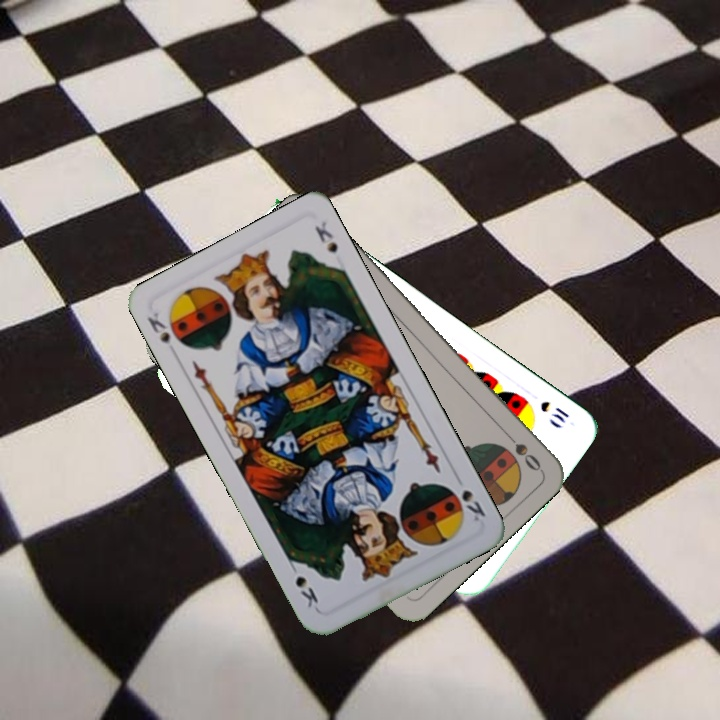S10: (536, 397, 571, 426)
SK: (143, 308, 188, 359), (457, 485, 488, 524)
SO: (499, 425, 544, 474)
